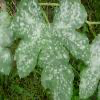Squash Powdery mildew leaf: (11, 1, 91, 99), (78, 35, 99, 98), (0, 10, 14, 75)
